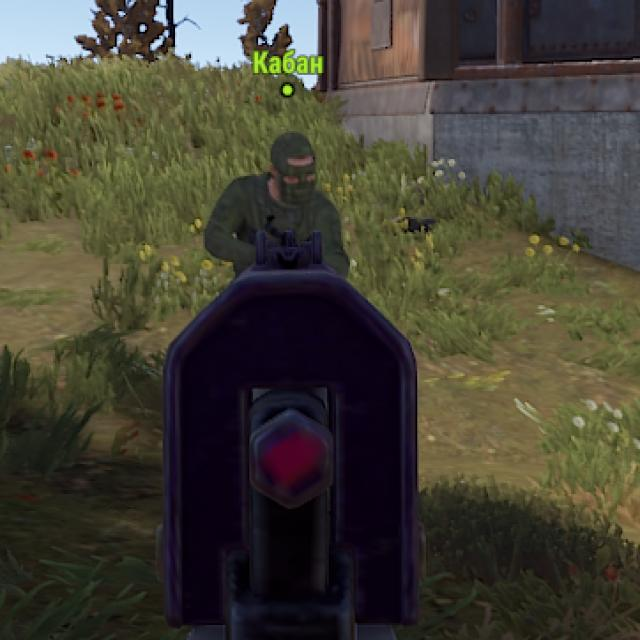Player: (212, 134, 342, 231)
